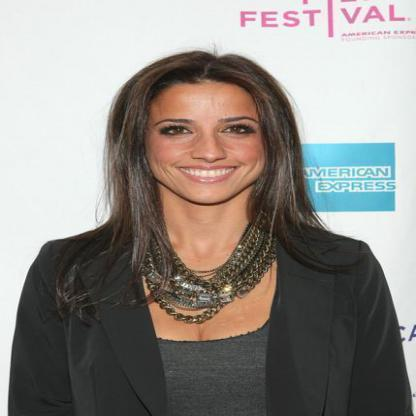long-hair: (72, 206, 348, 253)
